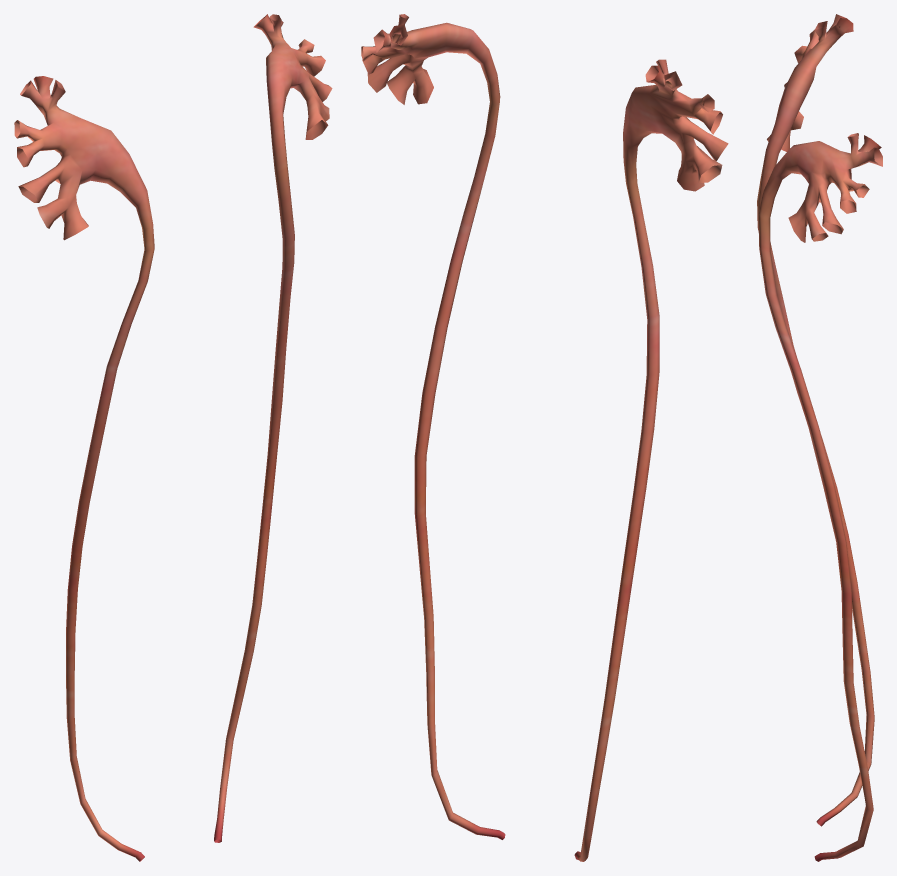
File: 4.3 Ureters.glb
3 views of the same model, side by side, from view 1: azimuth 30°, elevation 25°; view 2: azimuth 150°, elevation 25°; view 3: azimuth 270°, elevation 25° (orthographic). The views are drawn at different scales.
Visible parts, largest first — view 1: R_Ureter, L_Ureter; view 2: R_Ureter, L_Ureter; view 3: L_Ureter, R_Ureter.
Boxes of the visible parts, x1=… form: R_Ureter: x1=14, y1=76, x2=154, y2=861; L_Ureter: x1=214, y1=14, x2=332, y2=842; R_Ureter: x1=574, y1=59, x2=728, y2=861; L_Ureter: x1=361, y1=14, x2=505, y2=839; L_Ureter: x1=758, y1=133, x2=882, y2=861; R_Ureter: x1=757, y1=14, x2=874, y2=826.
Bounding box in the file's own units: 0.1181 × 0.2752 × 0.0409.
1 material, 1 textured.
